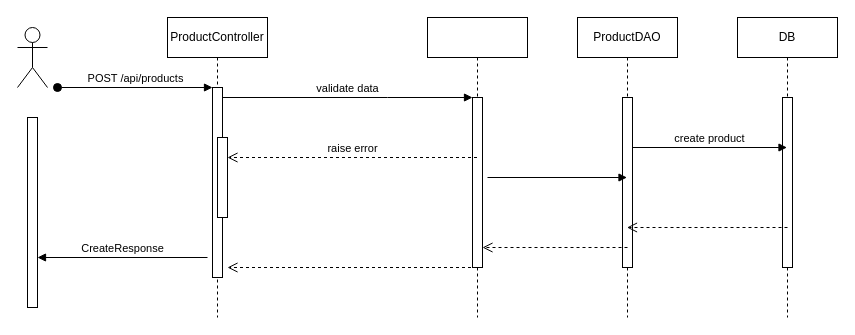
Some shapes in this 855 by 335 pixel diagram are drawn without their labels. Each missing label, with the box of its shape:
ProductLogic: (426, 16, 528, 318)
User: (16, 26, 48, 88)
